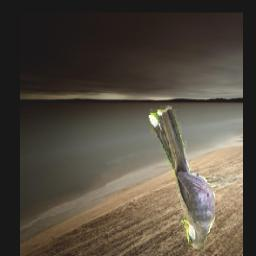Cuckoo: (149, 107, 216, 250)
